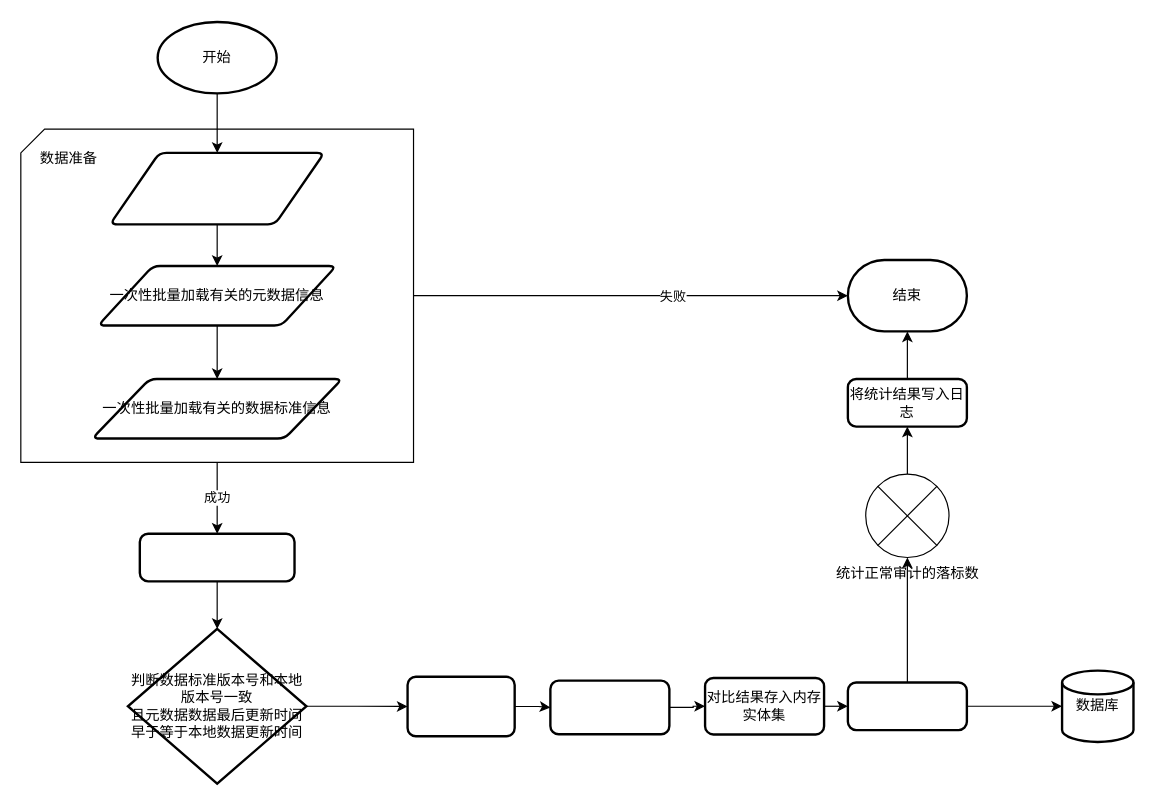
Some shapes in this 1155 by 804 pixel diagram are drawn without their labels. The centre of each missing label's shape, as x and y in pixels:
jdbc 流式读取元数据内容: the point at 460,706
加载落标配置: the point at 216,188
批量保存到数据库: the point at 906,706
组装参数: the point at 216,557
逐条对比数据内容与元数据标准配置: the point at 609,707
